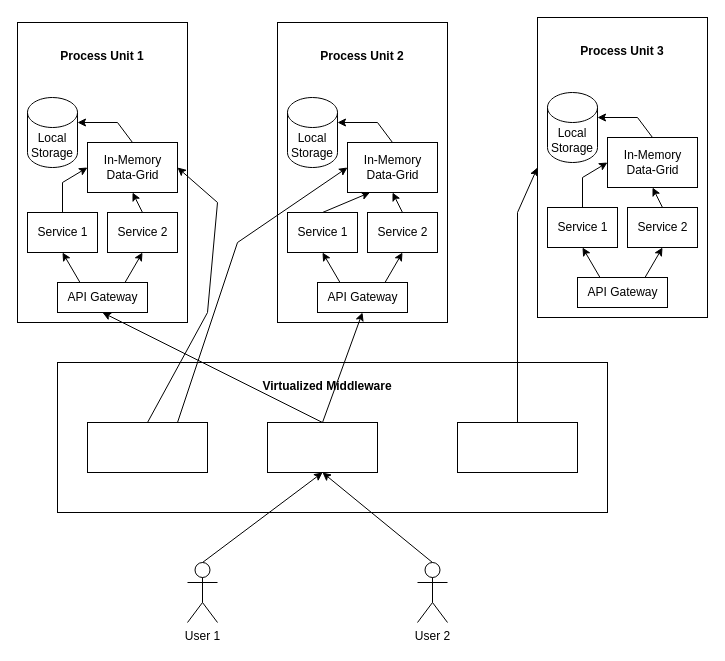
Image size: 725x661. Some labels were removed from this diagram. The box of each missing label's shape, as (x1, y1, x2, y2) in pixels:
Data Grid: (86, 422, 208, 472)
Deployment Manager: (456, 422, 578, 472)
Messaging Grid: (266, 422, 378, 472)
